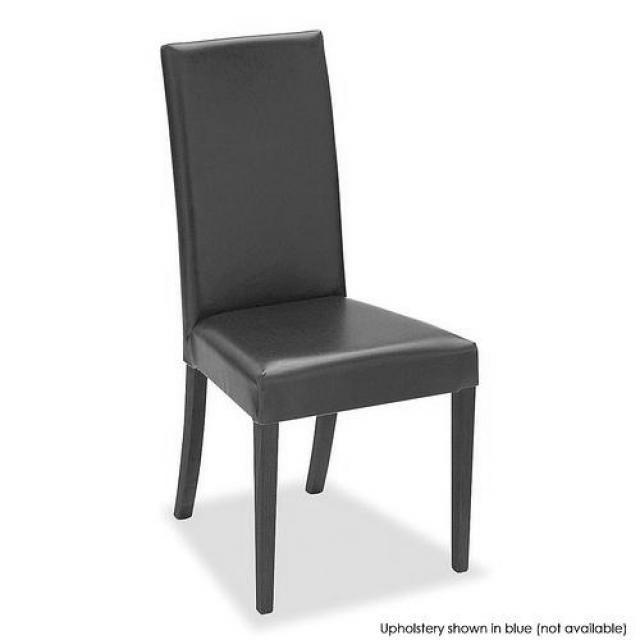chair: (153, 28, 483, 617)
